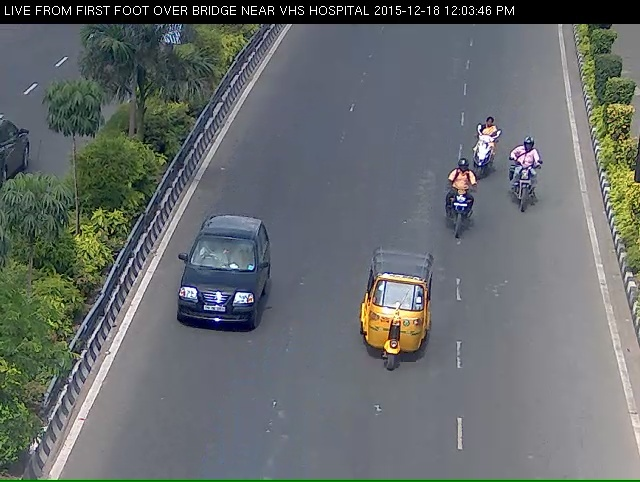Car: (166, 216, 264, 361), (350, 251, 434, 403)
Person: (443, 172, 480, 265), (507, 140, 544, 228), (464, 118, 498, 180)
